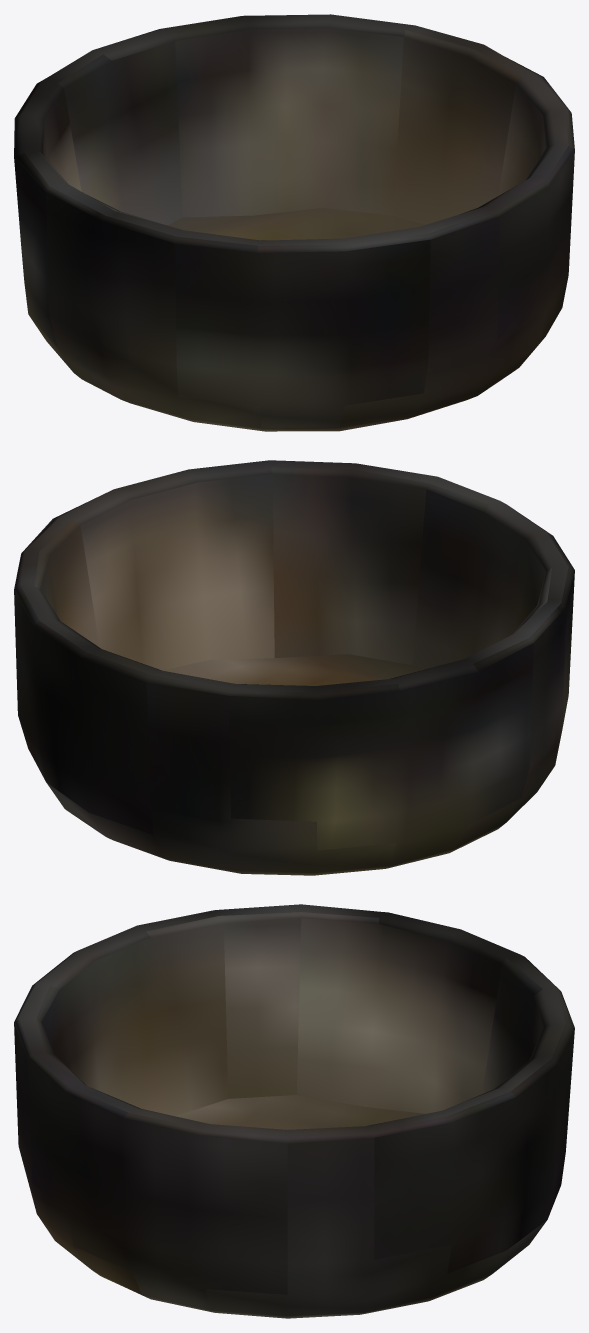
File: OparetionRoom_AI_Prop.034.fbx
3 renders of one model, top to bottom at view 1: azimuth 30°, elevation 25°; view 2: azimuth 150°, elevation 25°; view 3: azimuth 270°, elevation 25°, orthographic.
Parts seen in each view (by area): view 1: OparetionRoom_AI_Prop.034; view 2: OparetionRoom_AI_Prop.034; view 3: OparetionRoom_AI_Prop.034.
Part boxes in pixels (x1,y1,x2,y2): OparetionRoom_AI_Prop.034: [14, 14, 574, 431]; OparetionRoom_AI_Prop.034: [14, 460, 574, 875]; OparetionRoom_AI_Prop.034: [14, 904, 574, 1318].
Size of the model in its own units: 31.31 by 12.22 by 31.31.
